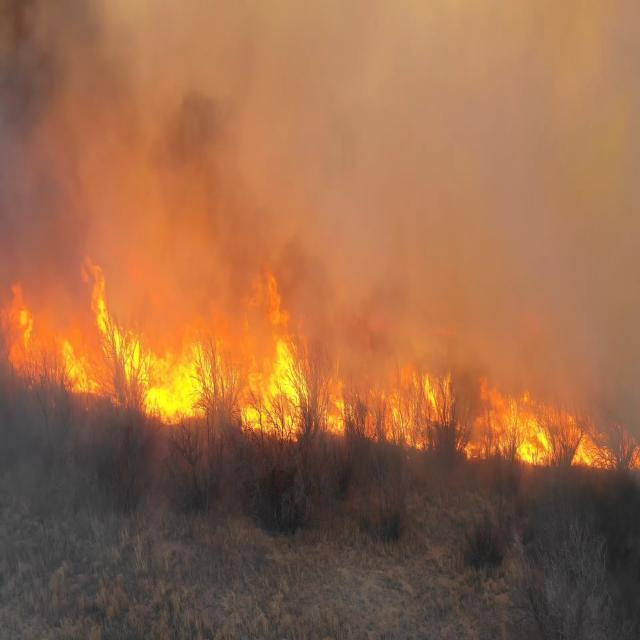Fire: (88, 269, 218, 431), (317, 352, 455, 457), (453, 381, 605, 471), (235, 285, 327, 427), (8, 300, 82, 391)
Smoke: (0, 0, 108, 244)
